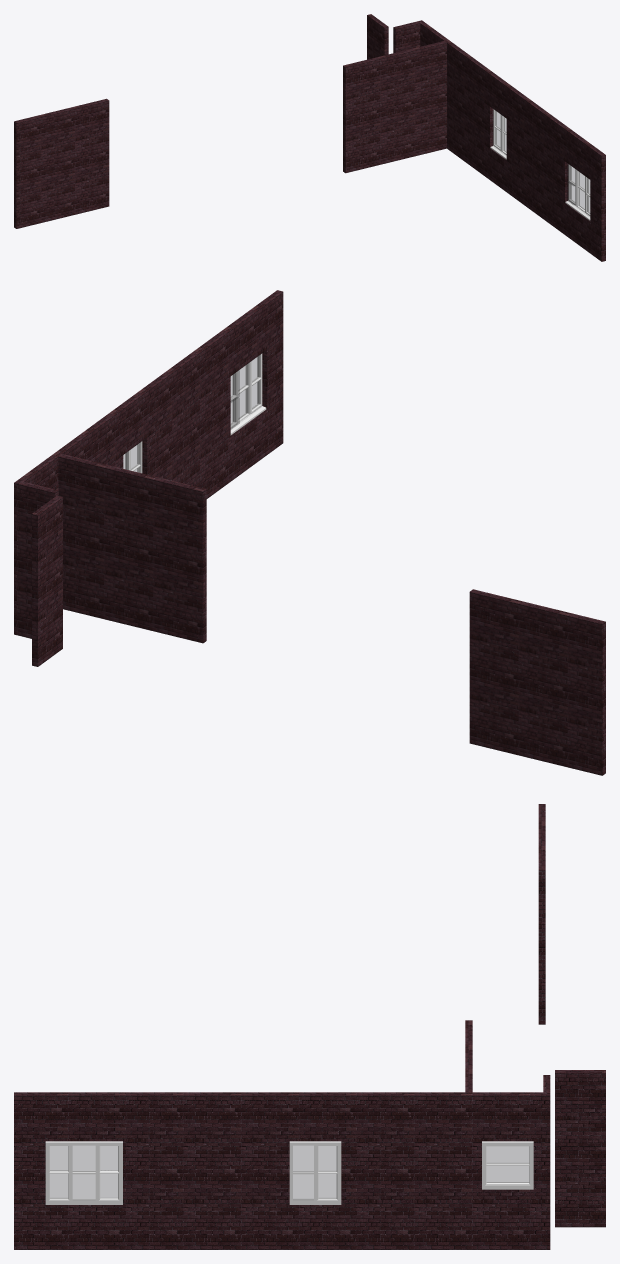
3 views of the same model, one above another, from view 1: azimuth 30°, elevation 25°; view 2: azimuth 150°, elevation 25°; view 3: azimuth 270°, elevation 25° (orthographic). The views are drawn at different scales.
Visible parts, largest first — view 1: Basic Wall Wall-Ext_215Bwk [345388]001, Basic Wall Wall-Ext_215Bwk [346825]001, Basic Wall Wall-Ext_215Bwk [350624]001, Windows_SCO_Horz_Bar_Tpl 1360x1210mm [639437]001, Basic Wall Wall-Ext_215Bwk [346175]001, Basic Wall Wall-Ext_215Bwk [345569]001, Windows_SCO_Horz_Bar_Dbl 910x1210mm [638105]001; view 2: Basic Wall Wall-Ext_215Bwk [345388]001, Basic Wall Wall-Ext_215Bwk [346825]001, Basic Wall Wall-Ext_215Bwk [350624]001, Basic Wall Wall-Ext_215Bwk [346175]001, Basic Wall Wall-Ext_215Bwk [345569]001, Windows_SCO_Horz_Bar_Tpl 1360x1210mm [639437]001; view 3: Basic Wall Wall-Ext_215Bwk [345388]001, Basic Wall Wall-Ext_215Bwk [346175]001, Windows_SCO_Horz_Bar_Tpl 1360x1210mm [639437]001, Windows_SCO_Horz_Bar_Dbl 910x1210mm [638105]001, Windows_SCO_Horz_Bar_Sgl 910x910mm [640941]001, Basic Wall Wall-Ext_215Bwk [350624]001.
Part boxes in pixels (x1,y1,x2,y2): Basic Wall Wall-Ext_215Bwk [345388]001: [418, 20, 605, 261]; Basic Wall Wall-Ext_215Bwk [346825]001: [343, 41, 446, 173]; Basic Wall Wall-Ext_215Bwk [350624]001: [14, 98, 109, 228]; Windows_SCO_Horz_Bar_Tpl 1360x1210mm [639437]001: [565, 163, 590, 220]; Basic Wall Wall-Ext_215Bwk [346175]001: [367, 14, 388, 59]; Basic Wall Wall-Ext_215Bwk [345569]001: [393, 21, 420, 53]; Windows_SCO_Horz_Bar_Dbl 910x1210mm [638105]001: [490, 109, 506, 159]; Basic Wall Wall-Ext_215Bwk [345388]001: [14, 290, 283, 635]; Basic Wall Wall-Ext_215Bwk [346825]001: [58, 454, 206, 643]; Basic Wall Wall-Ext_215Bwk [350624]001: [469, 589, 605, 775]; Basic Wall Wall-Ext_215Bwk [346175]001: [32, 495, 62, 666]; Basic Wall Wall-Ext_215Bwk [345569]001: [20, 482, 58, 638]; Windows_SCO_Horz_Bar_Tpl 1360x1210mm [639437]001: [230, 353, 266, 435]; Basic Wall Wall-Ext_215Bwk [345388]001: [14, 1092, 550, 1249]; Basic Wall Wall-Ext_215Bwk [346175]001: [555, 1070, 605, 1227]; Windows_SCO_Horz_Bar_Tpl 1360x1210mm [639437]001: [45, 1141, 122, 1204]; Windows_SCO_Horz_Bar_Dbl 910x1210mm [638105]001: [289, 1141, 341, 1204]; Windows_SCO_Horz_Bar_Sgl 910x910mm [640941]001: [482, 1141, 533, 1189]; Basic Wall Wall-Ext_215Bwk [350624]001: [538, 804, 545, 1024].
Size of the model in its own units: 12.19 by 3 by 10.42.
Materials: 3 (1 with a texture image).
